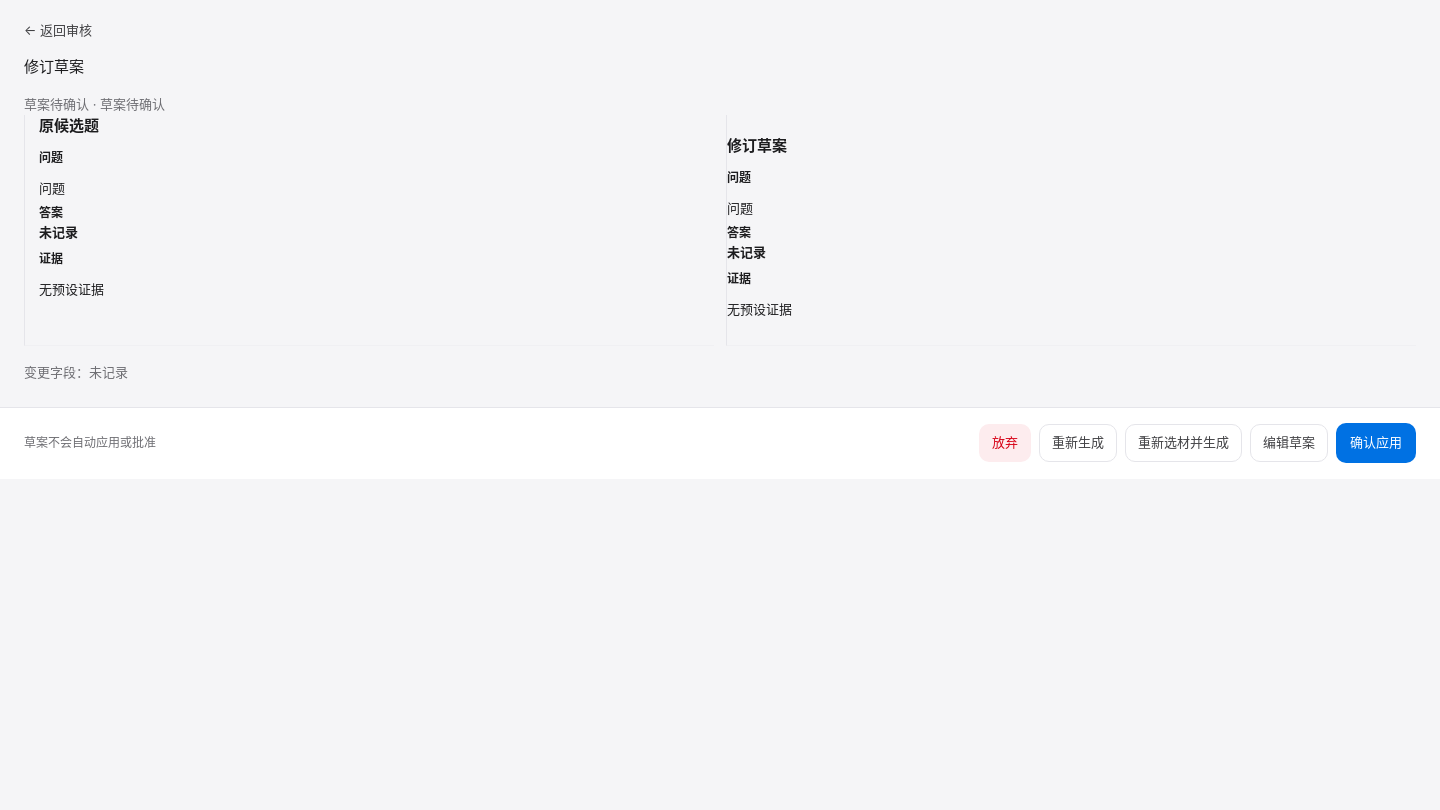
Test: confirms revision operation regenerate without sending on cancel
Click the button "重新生成". click: (1078, 443)
box: [1039,424,1117,462]
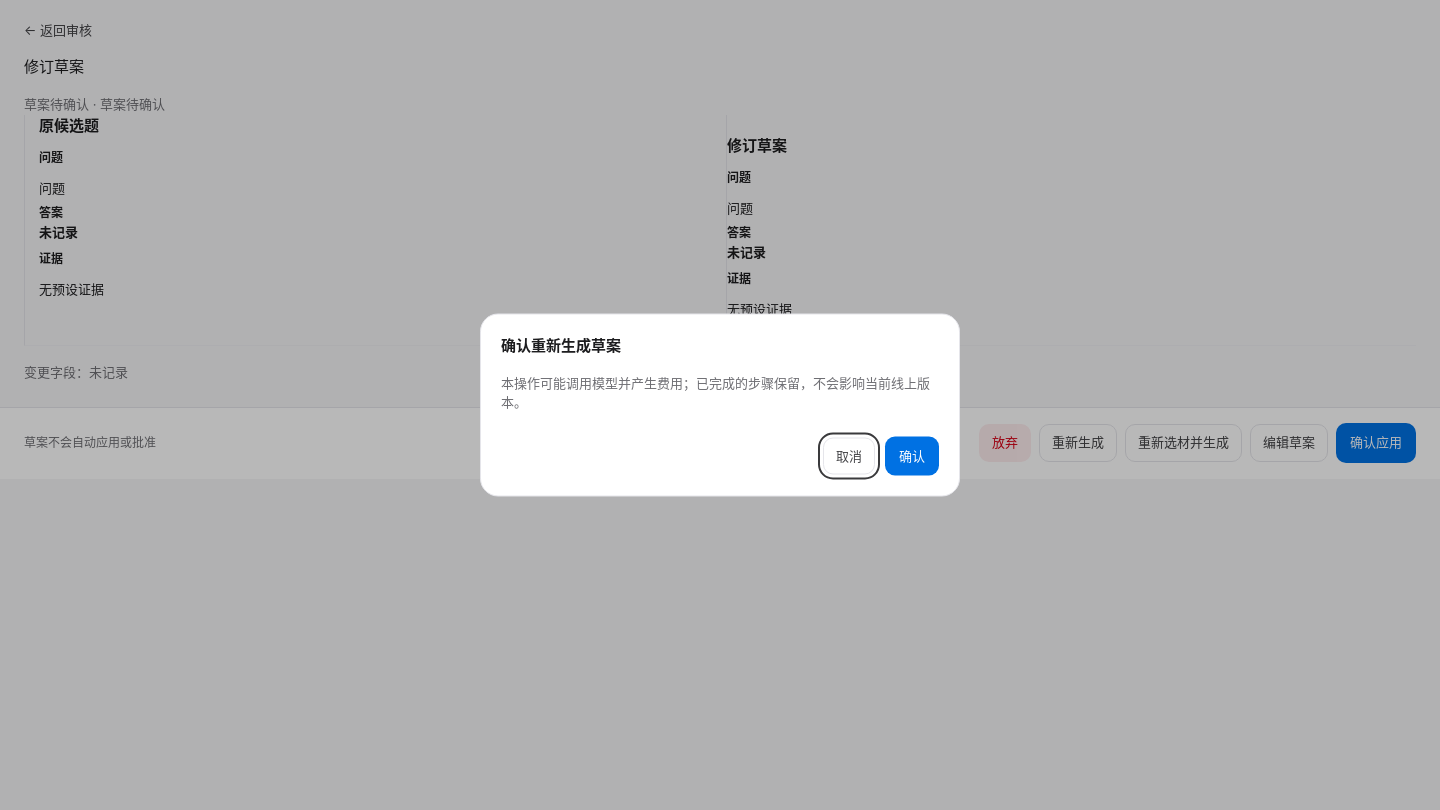
Now the dialog with class "confirm-dialog" is shown, box [480,314,960,496]
Now the button "取消" is shown
Click the button "取消". click: (849, 456)
box: [823,437,875,474]
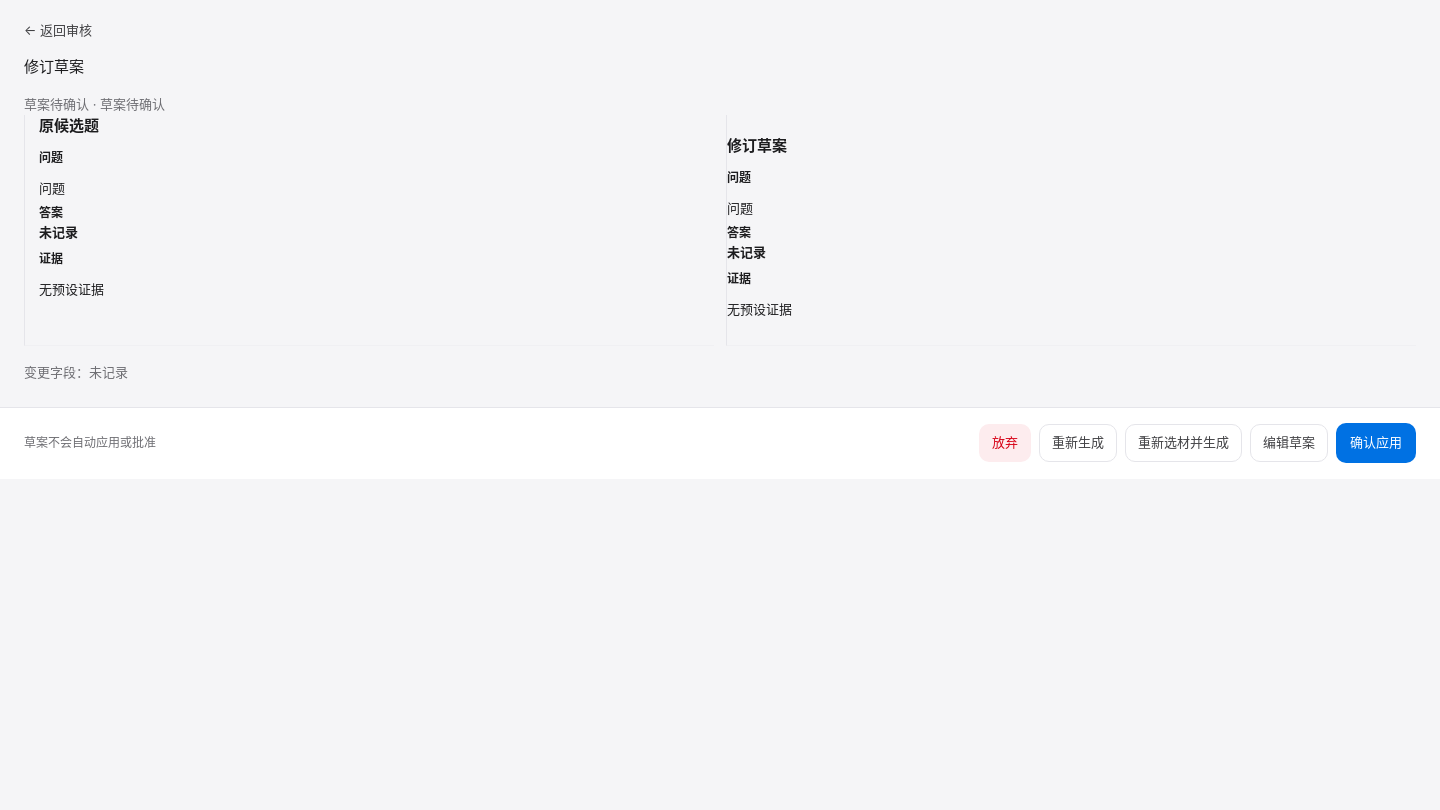
Now the dialog with class "confirm-dialog" is gone
